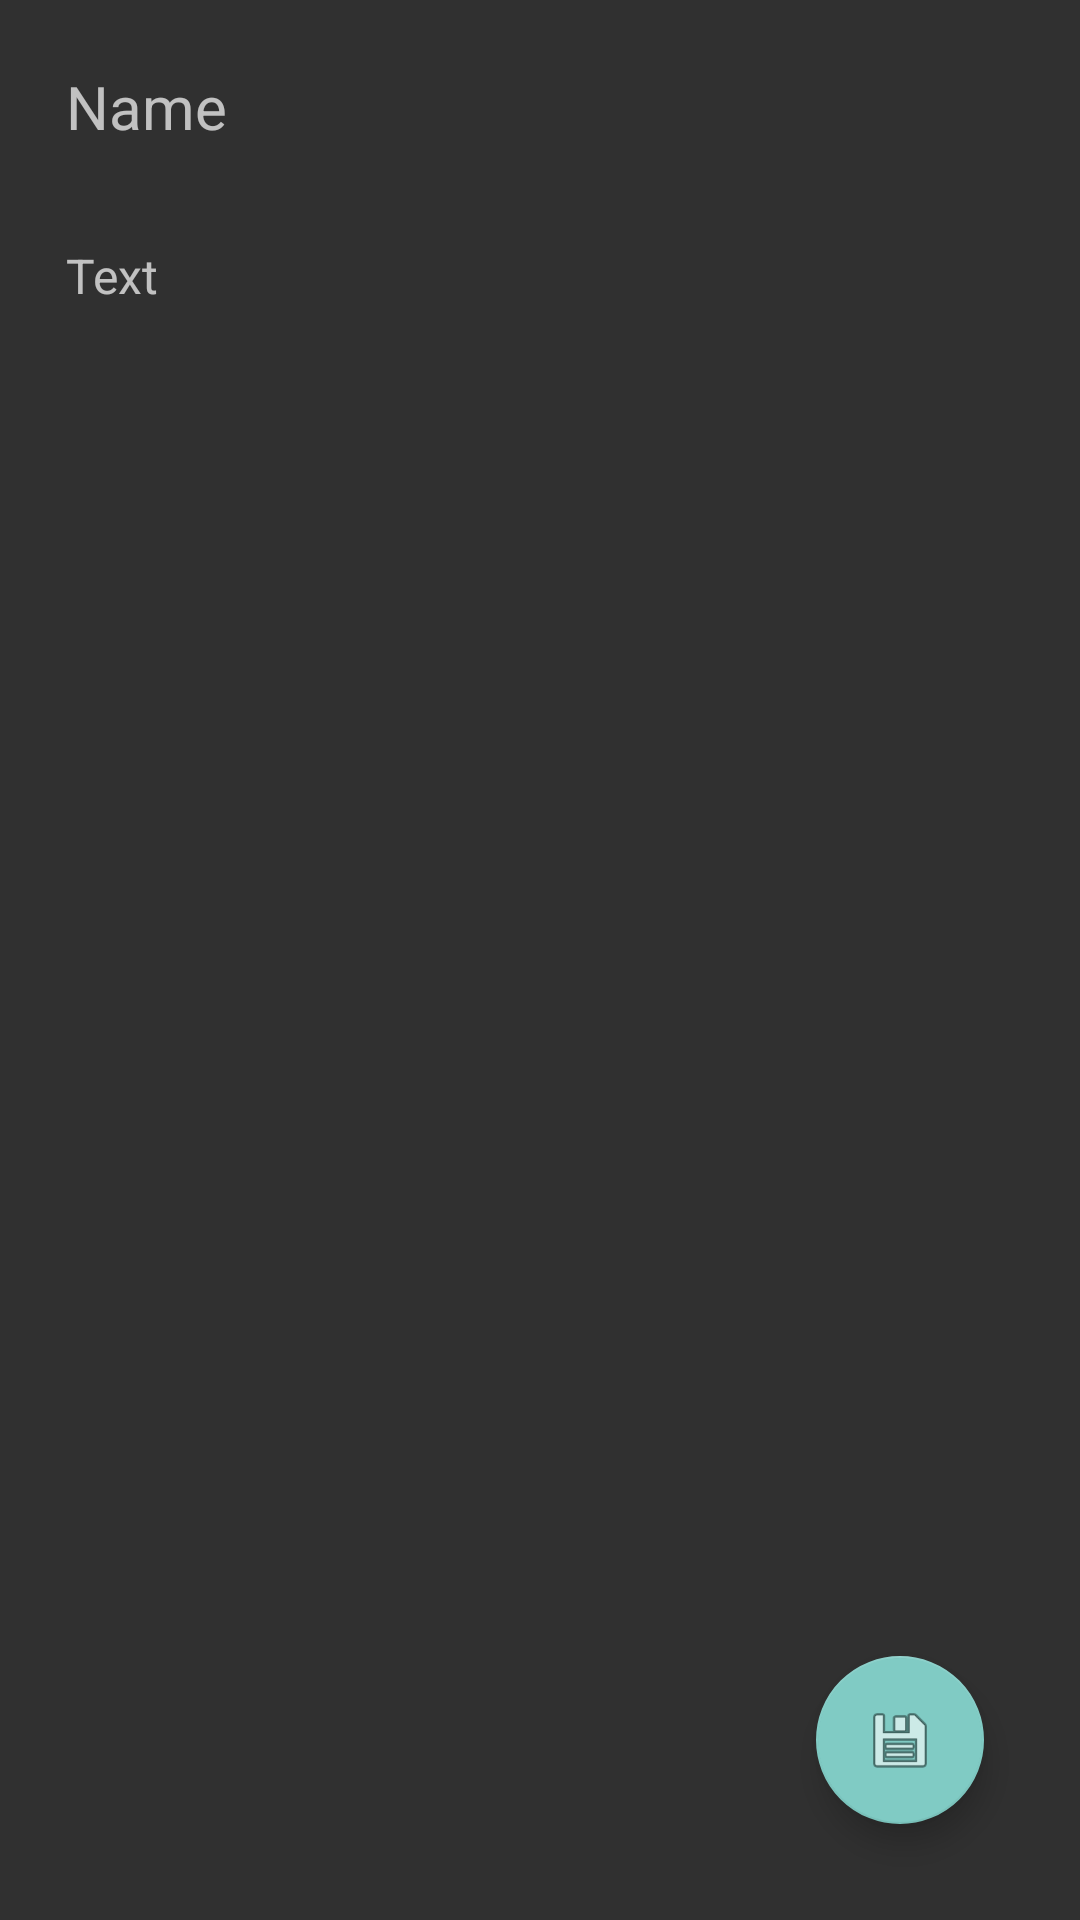

Point at icon controls on the screen. Image size 1080px×1920px, points as (x=x, y=y).
save: (x=900, y=1740)
